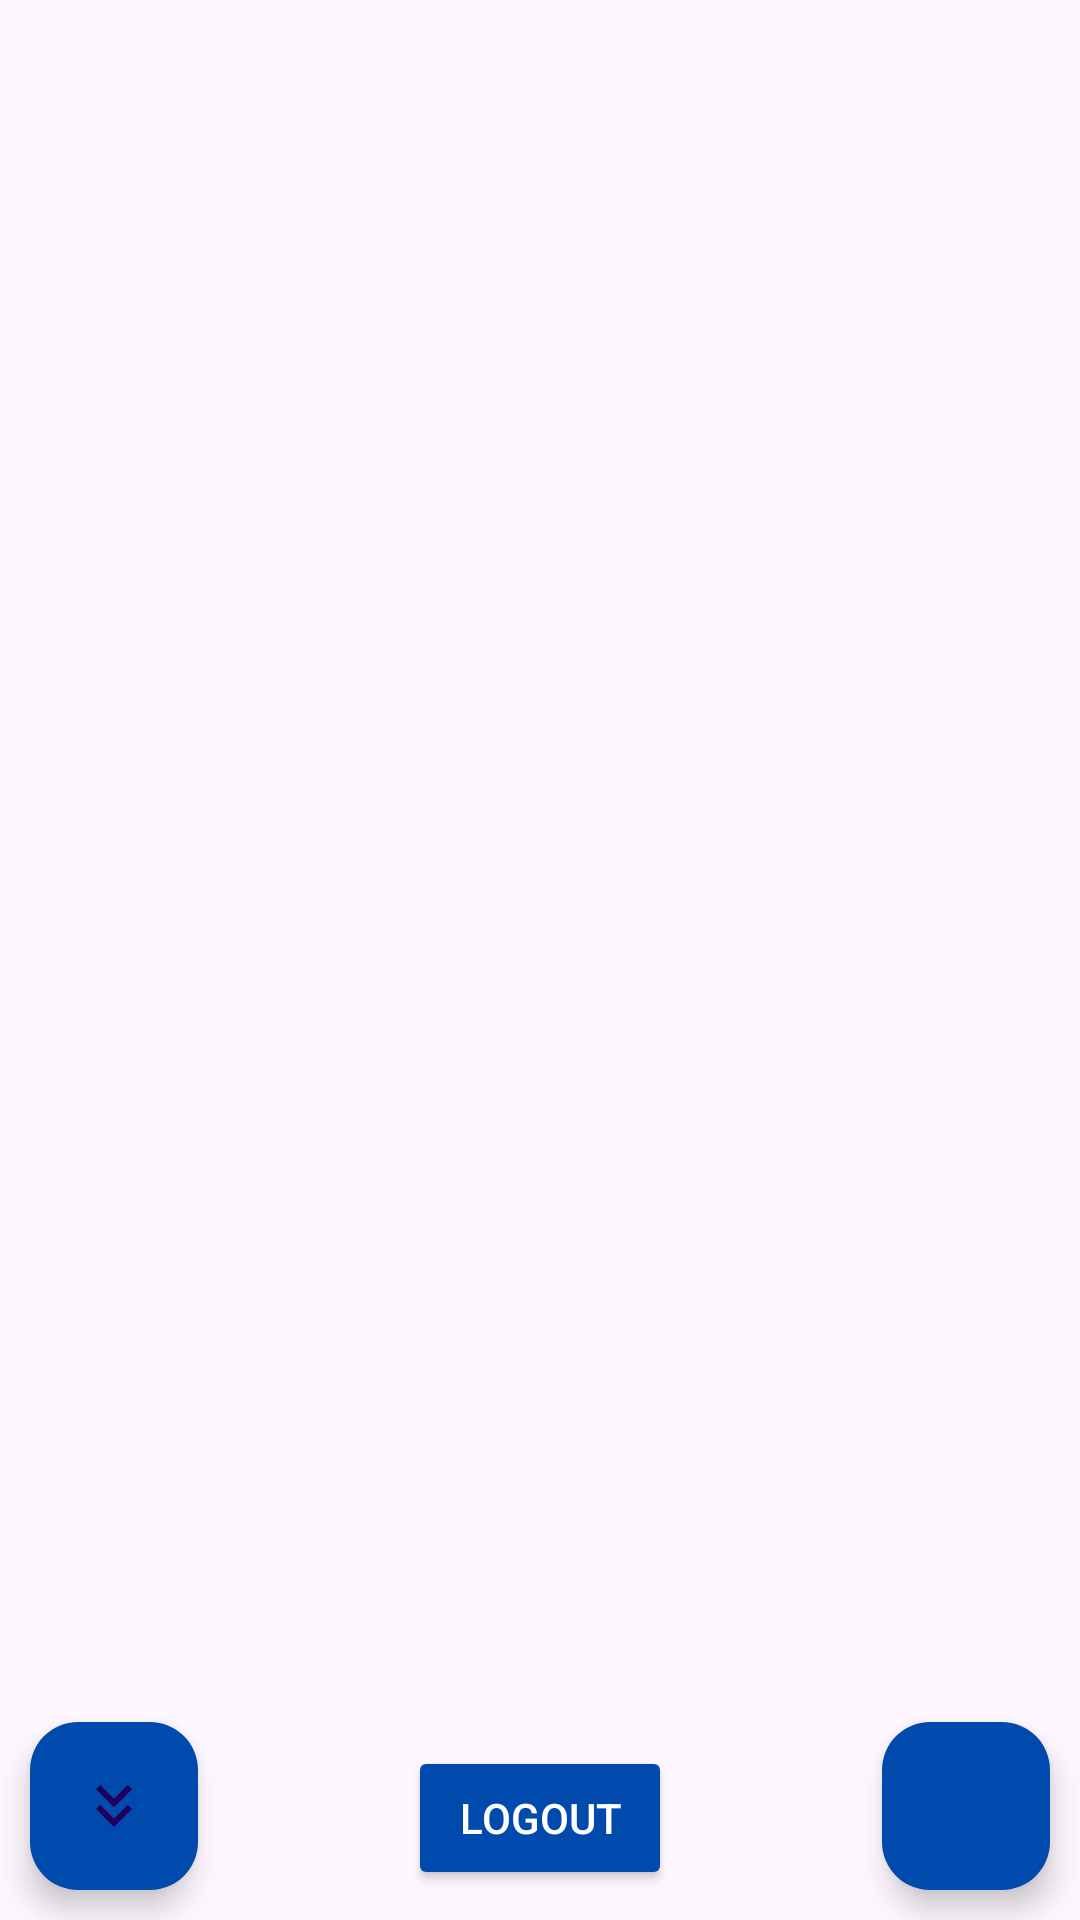

Screen size 1080w x 1920h. Icon name, then its box in pixels as (x1, y1, x2, y2):
keyboard double arrow down: (30, 1722, 198, 1890)
